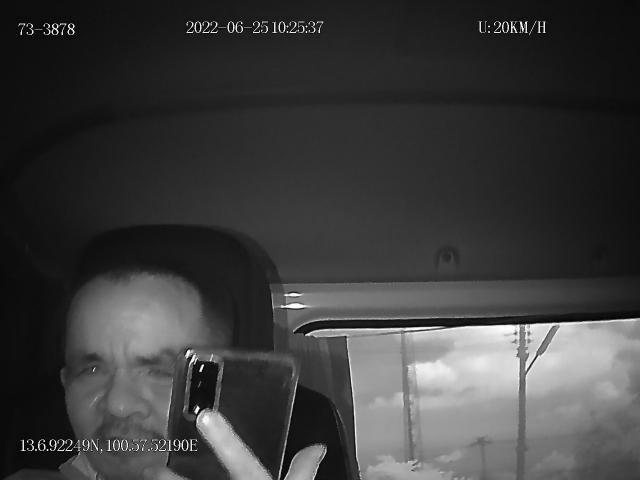PhoneUse: (165, 344, 301, 480)
SafeDriving: (134, 352, 178, 386), (69, 352, 111, 386)
